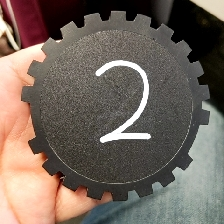gear: (19, 9, 212, 203)
missing: (176, 108, 212, 172), (20, 85, 46, 155)
